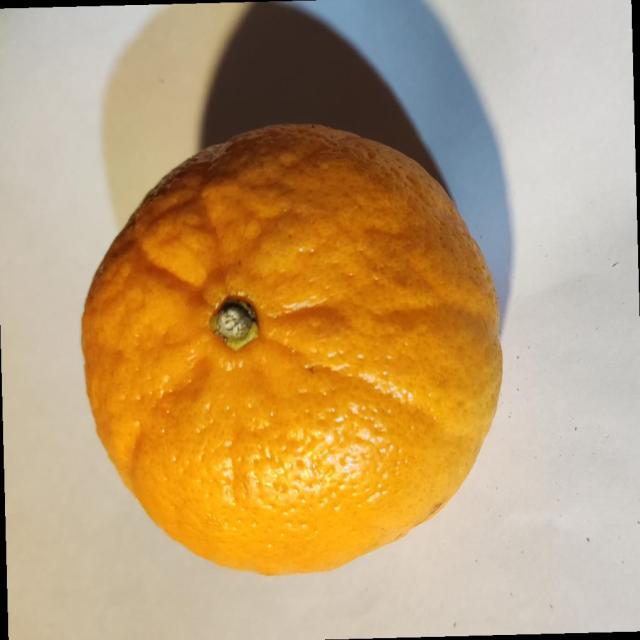fresh orange: (80, 121, 504, 576)
